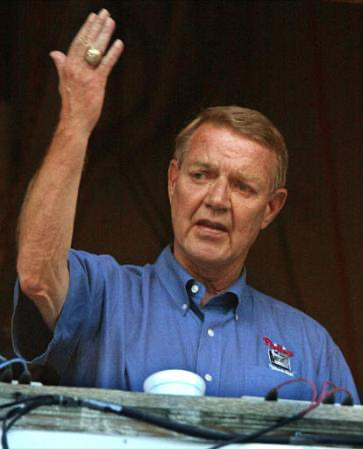Face: (173, 128, 277, 262)
